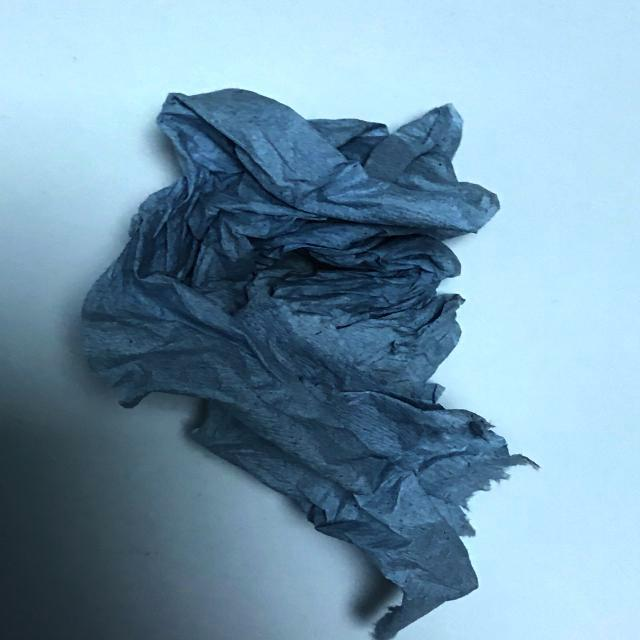paper: (72, 74, 544, 640)
